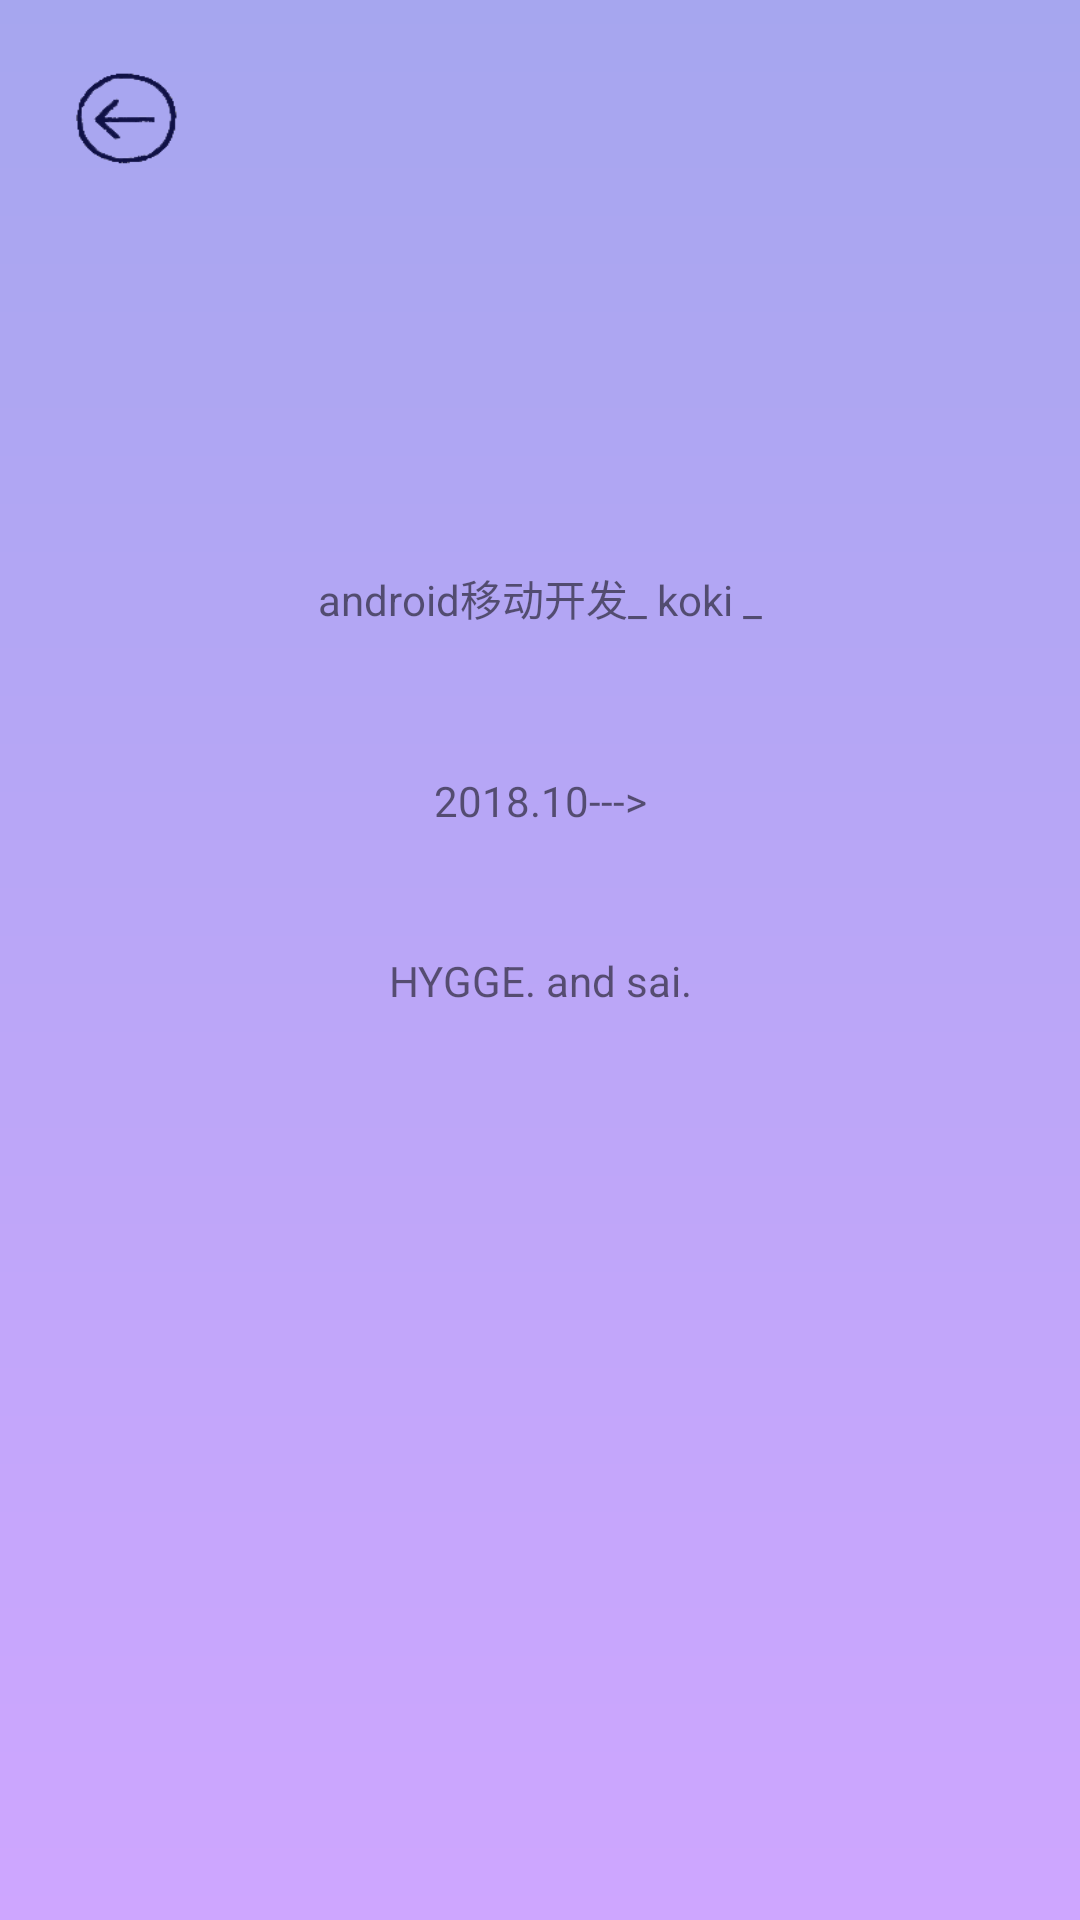

Icon bounding boxes for this 1080 x 1920 phone screenshot, format (x1,y1,x2,y2):
back: (76,73,177,164)
